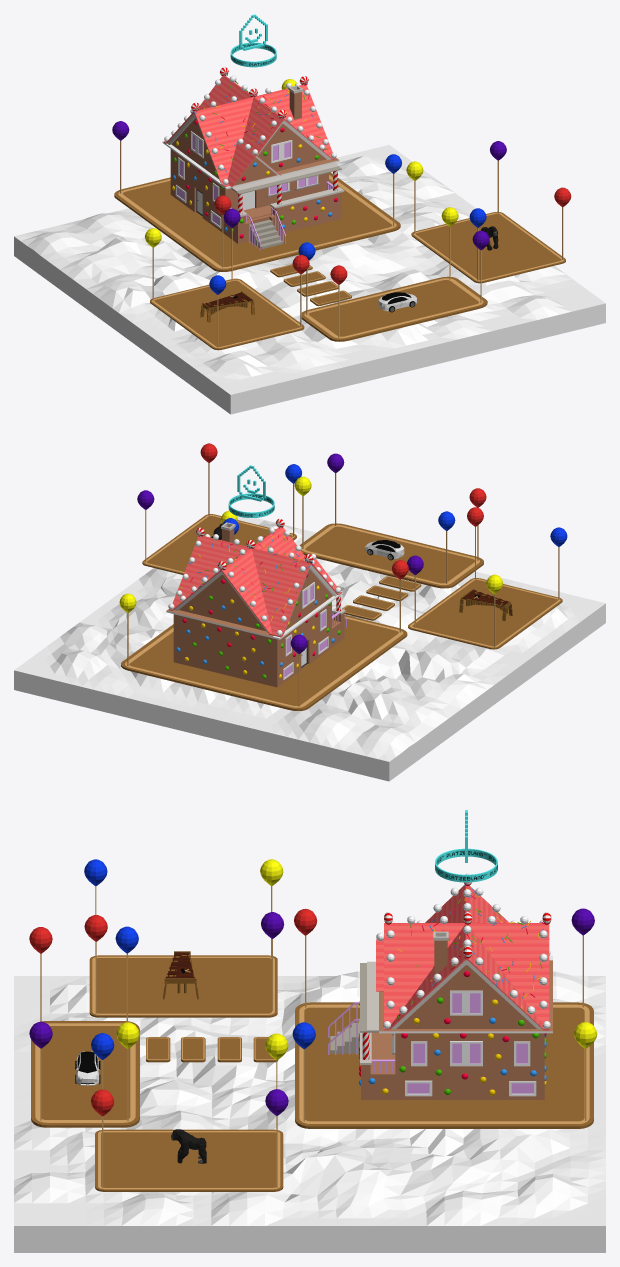
3 renders of one model, top to bottom at view 1: azimuth 30°, elevation 25°; view 2: azimuth 150°, elevation 25°; view 3: azimuth 270°, elevation 25°, orthographic. The views are drawn at different scales.
Parts seen in each view (by area): view 1: Cube.013, Cube.1203, TYPE_PREMIUM, OBJRANDOM_MARIMBA, VEHICLES_TESLA; view 2: Cube.013, Cube.1203, TYPE_PREMIUM, OBJRANDOM_MARIMBA, VEHICLES_TESLA; view 3: Cube.013, Cube.1203, TYPE_PREMIUM, OBJRANDOM_MARIMBA, VEHICLES_TESLA, ANIMAL_GORILA.
Boxes of the visible parts, left/top/right/bottom form: Cube.013: left=14, top=79, right=605, bottom=414; Cube.1203: left=162, top=67, right=344, bottom=250; TYPE_PREMIUM: left=230, top=14, right=276, bottom=67; OBJRANDOM_MARIMBA: left=200, top=291, right=255, bottom=322; VEHICLES_TESLA: left=378, top=292, right=417, bottom=312; Cube.013: left=14, top=443, right=605, bottom=781; Cube.1203: left=166, top=518, right=346, bottom=687; TYPE_PREMIUM: left=228, top=465, right=274, bottom=517; OBJRANDOM_MARIMBA: left=459, top=589, right=512, bottom=620; VEHICLES_TESLA: left=365, top=540, right=404, bottom=560; Cube.013: left=14, top=859, right=605, bottom=1252; Cube.1203: left=328, top=873, right=552, bottom=1099; TYPE_PREMIUM: left=435, top=810, right=497, bottom=882; OBJRANDOM_MARIMBA: left=163, top=951, right=198, bottom=999; VEHICLES_TESLA: left=75, top=1051, right=100, bottom=1085; ANIMAL_GORILA: left=171, top=1129, right=206, bottom=1163.
Bounding box in the file's own units: 4000 × 2595 × 4000.
42 materials, 3 textured.
